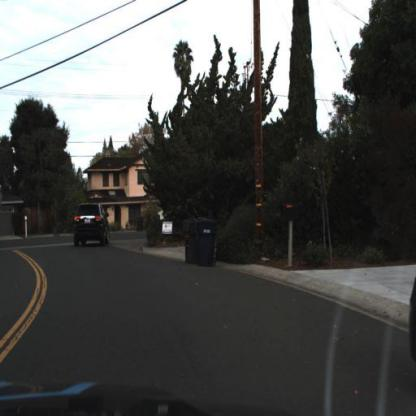car: (70, 198, 118, 251)
